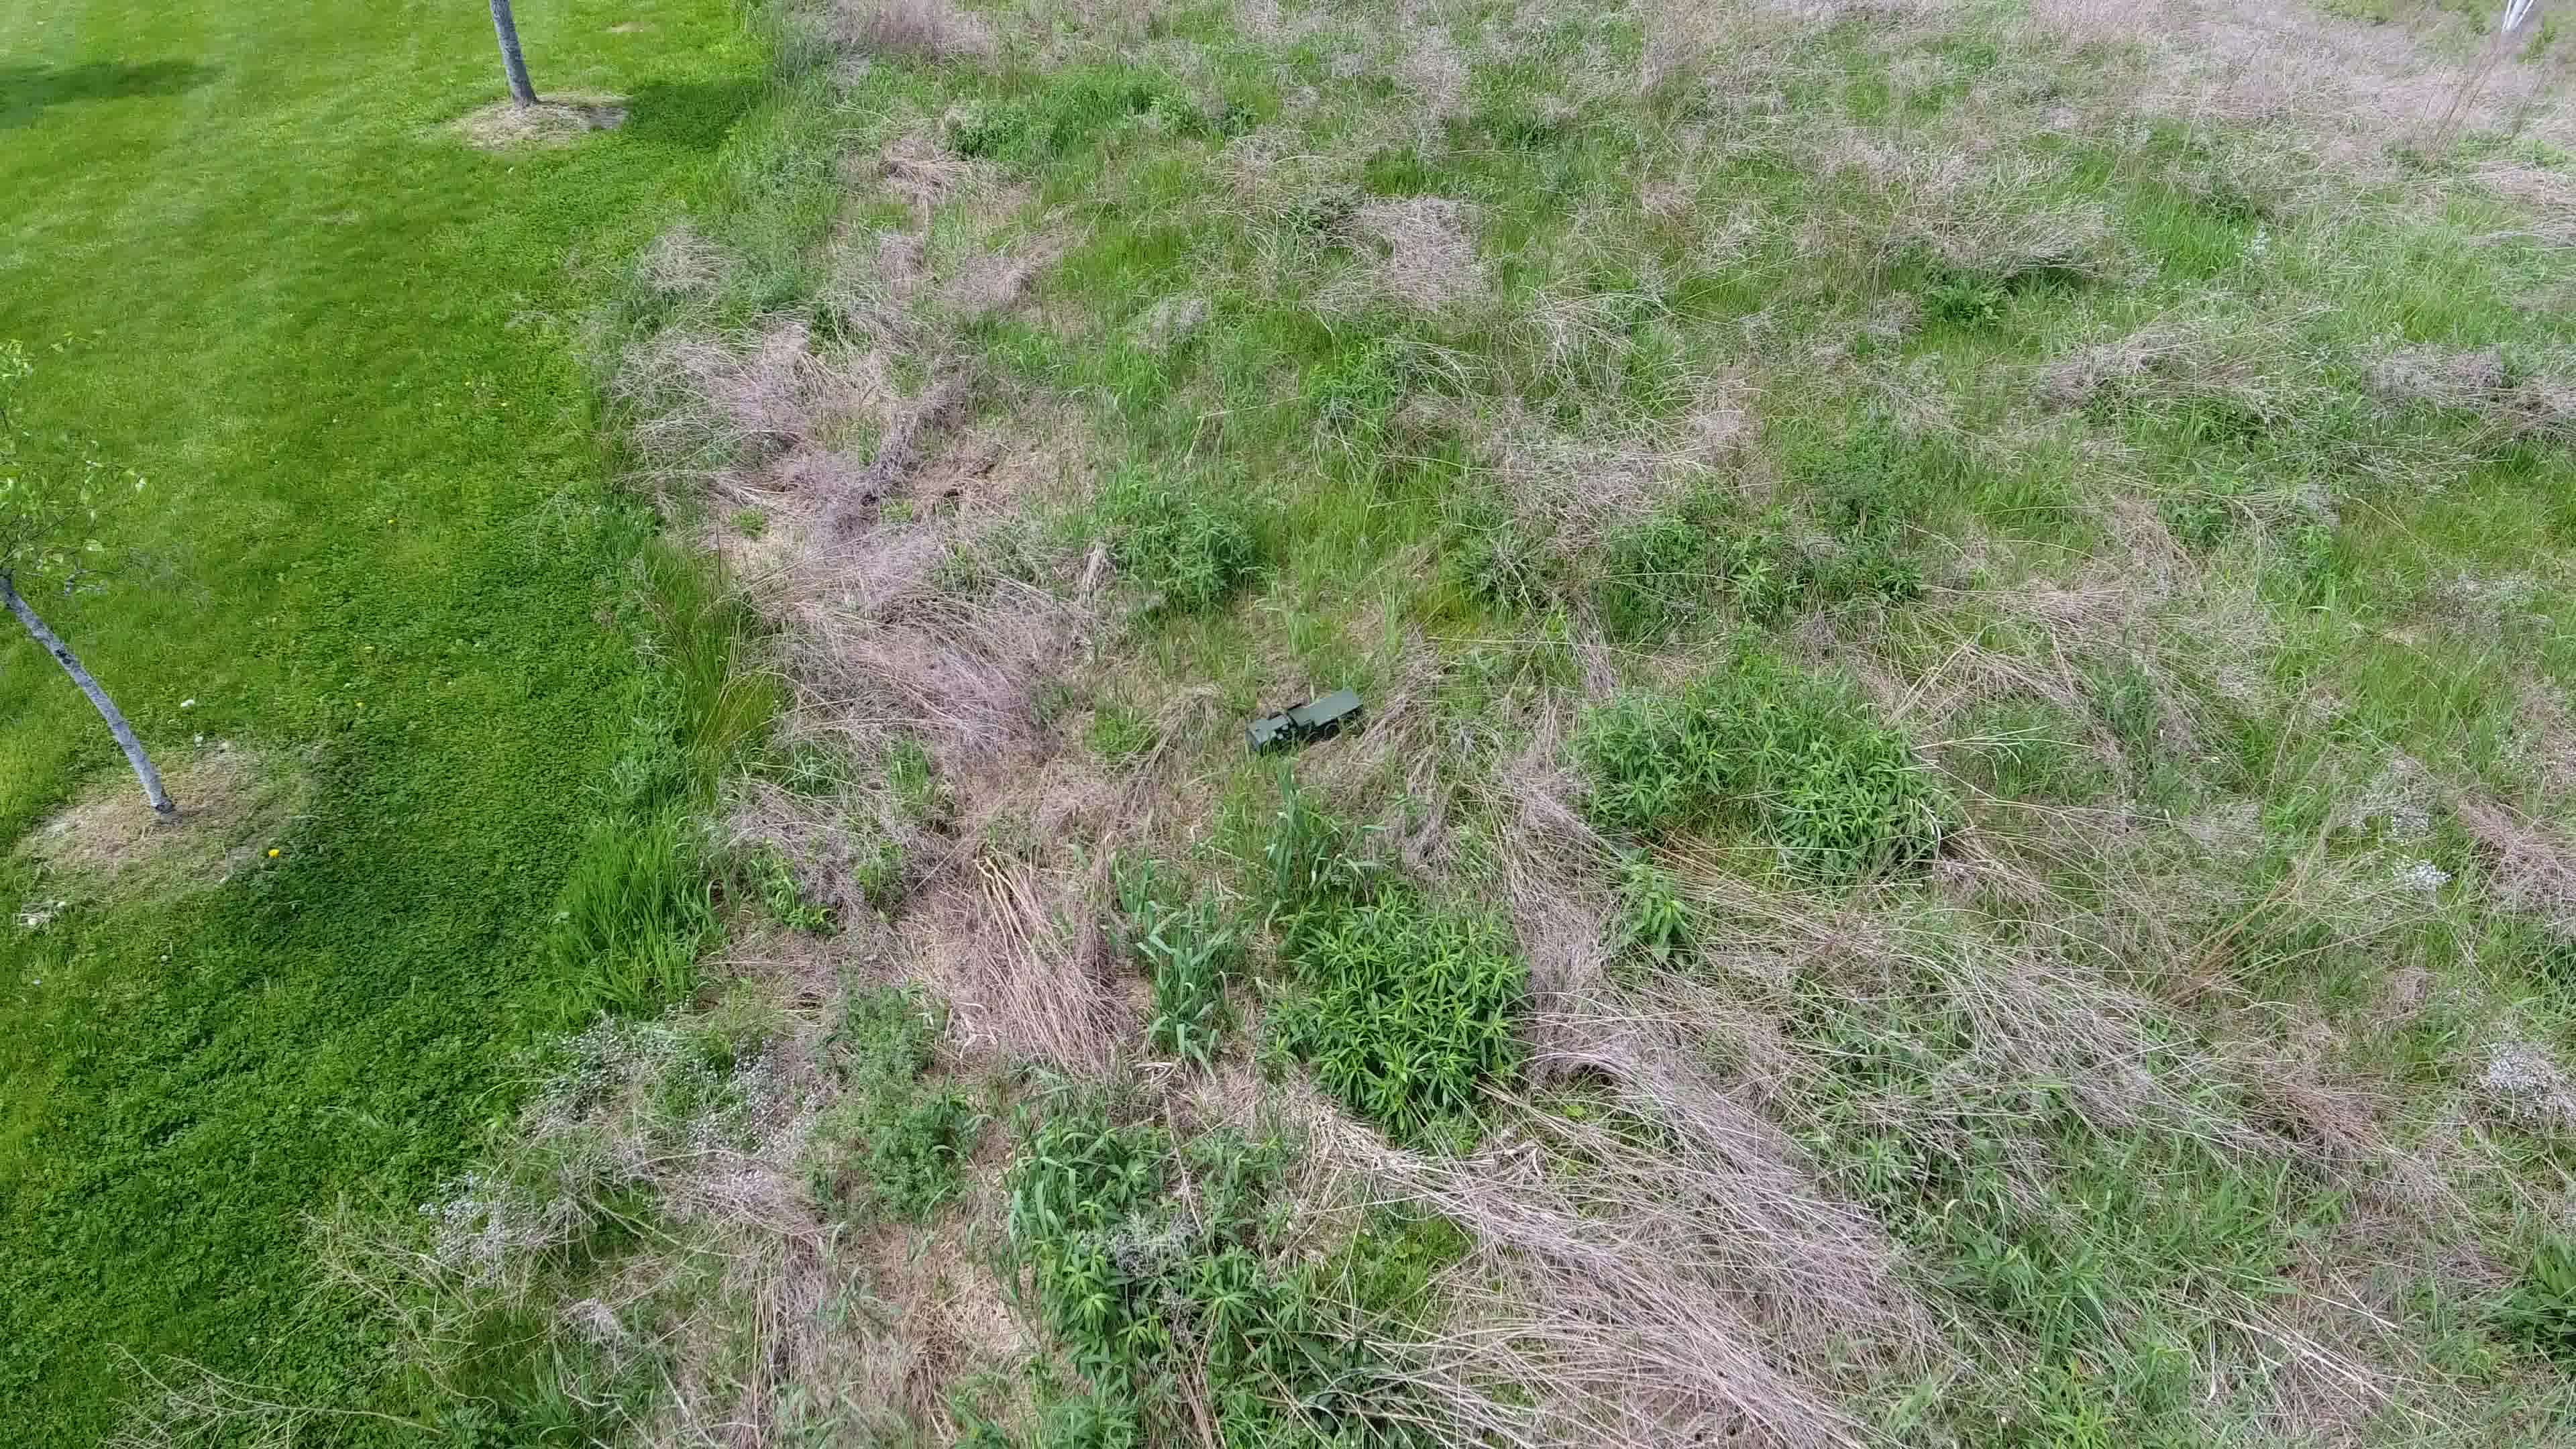transporter9: (1242, 679, 1368, 757)
